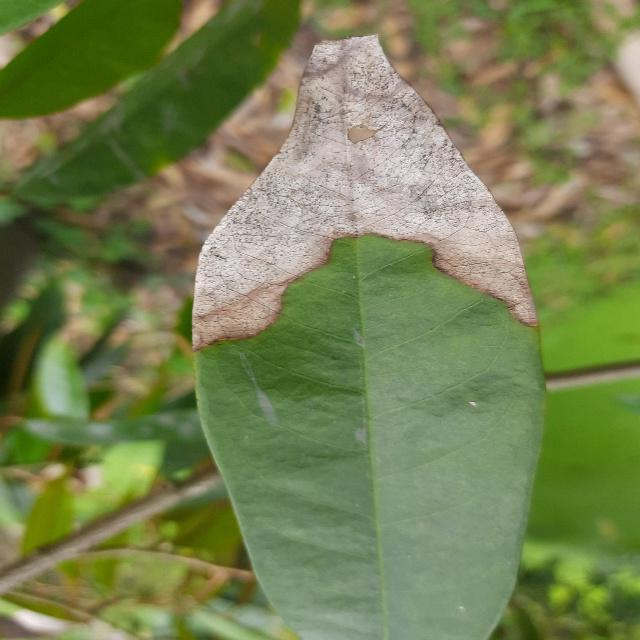Leaf Blight: (186, 30, 551, 640)
